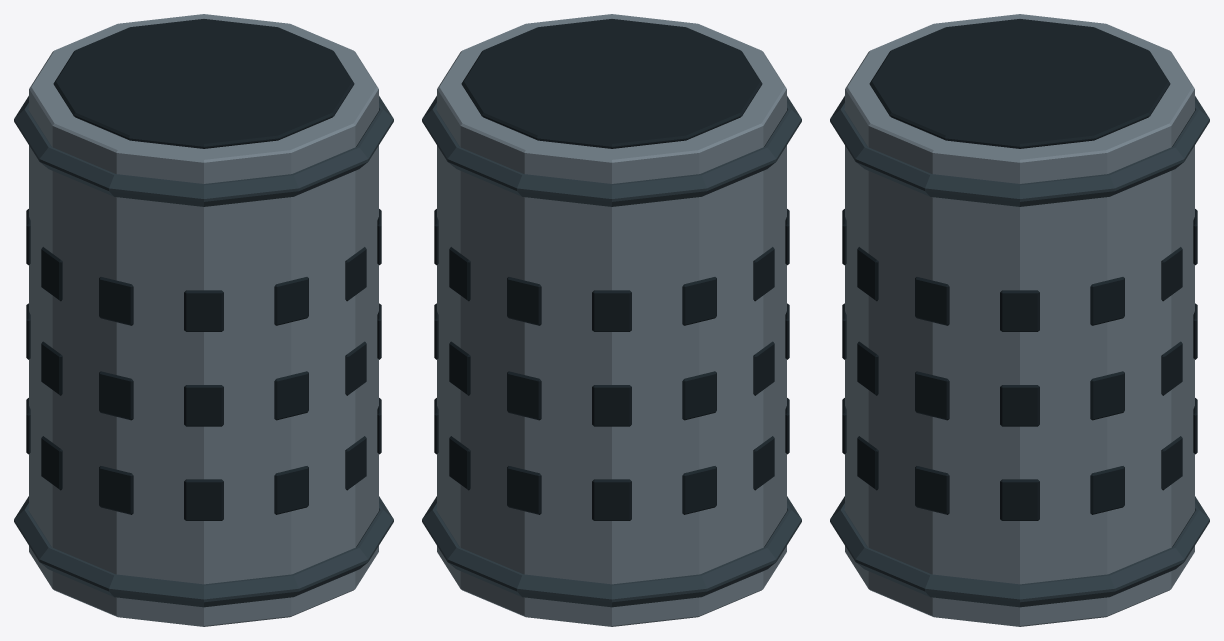
File: b04_perforated_steel_drum_bin.glb
The picture shows the model from 3 angles, left to right: view 1: azimuth 30°, elevation 25°; view 2: azimuth 150°, elevation 25°; view 3: azimuth 270°, elevation 25°; orthographic projection.
Visible parts, largest first — view 1: b04_perforated_steel_drum_bin; view 2: b04_perforated_steel_drum_bin; view 3: b04_perforated_steel_drum_bin.
Part boxes in pixels (x1,y1,x2,y2): b04_perforated_steel_drum_bin: (14,14,393,626); b04_perforated_steel_drum_bin: (422,14,801,626); b04_perforated_steel_drum_bin: (830,14,1209,626).
Size of the model in its own units: 0.619 by 0.85 by 0.619.
